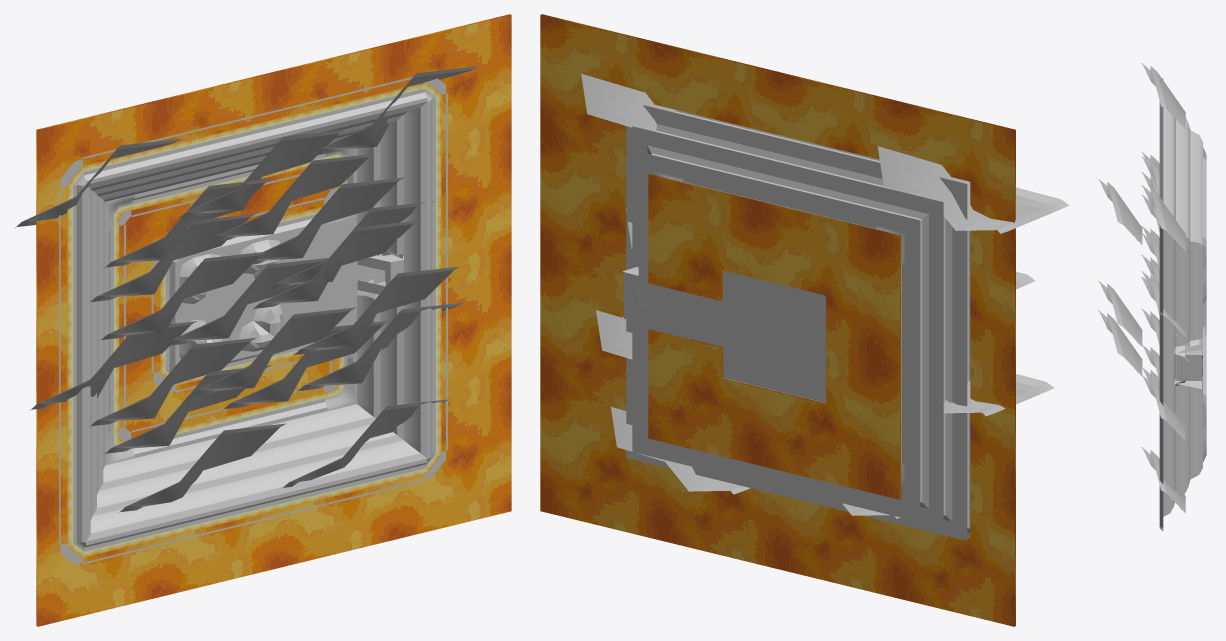
File: Mount-Undara-3.obj
The picture shows the model from 3 angles, left to right: view 1: azimuth 30°, elevation 25°; view 2: azimuth 150°, elevation 25°; view 3: azimuth 270°, elevation 25°; orthographic projection. The views are drawn at different scales.
Parts seen in each view (by area): view 1: map; view 2: map; view 3: map.
Boxes of the visible parts, x1,y1,x2,y2 form: map: [15, 14, 511, 626]; map: [540, 14, 1068, 626]; map: [1098, 63, 1206, 531].
Size of the model in its own units: 34.59 by 32 by 7.9.
